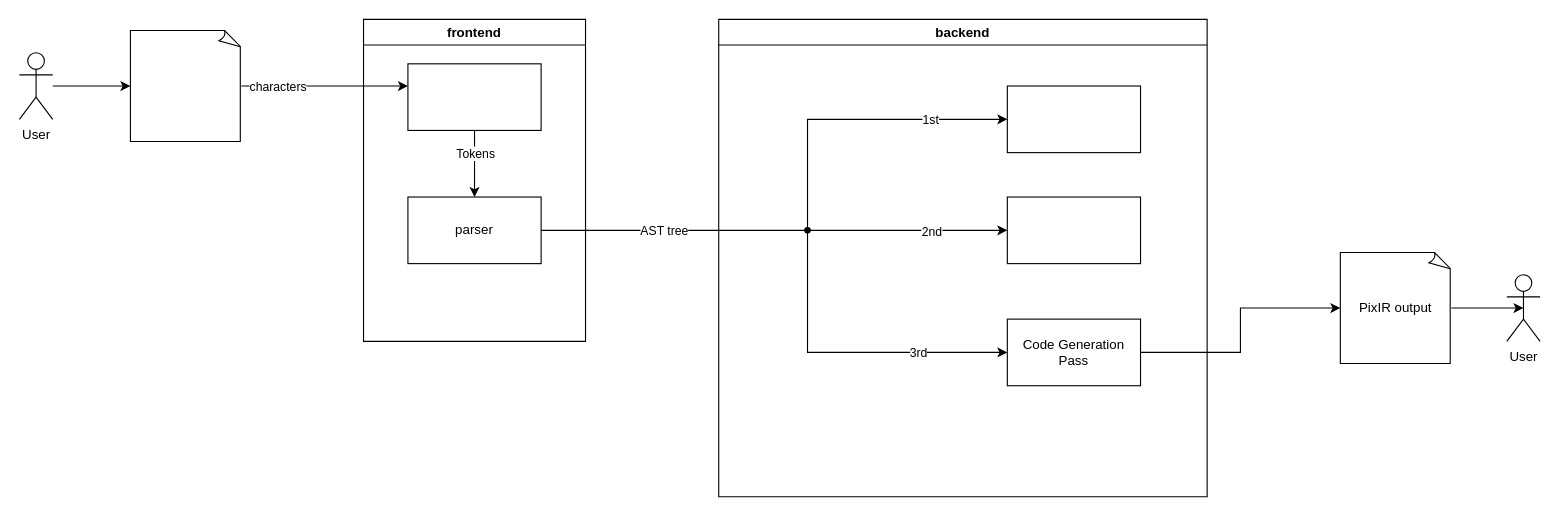
Some shapes in this 1560 by 516 pixel diagram are drawn without their labels. Each missing label, with the centre of its shape:
"lexer" belongs at [474,96].
"PixArLang source code" belongs at [185,85].
"Semantic Analysis Pass" belongs at [1073,230].
"XML Generation Pass" belongs at [1073,119].
